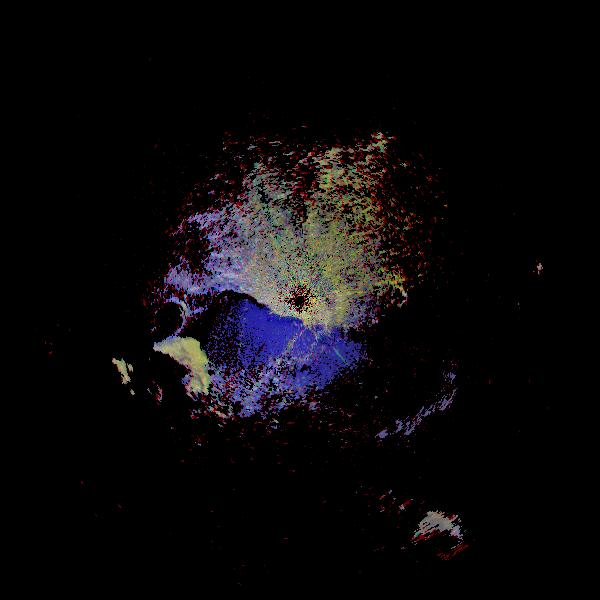roost: (100, 303, 235, 438), (388, 488, 493, 593)
